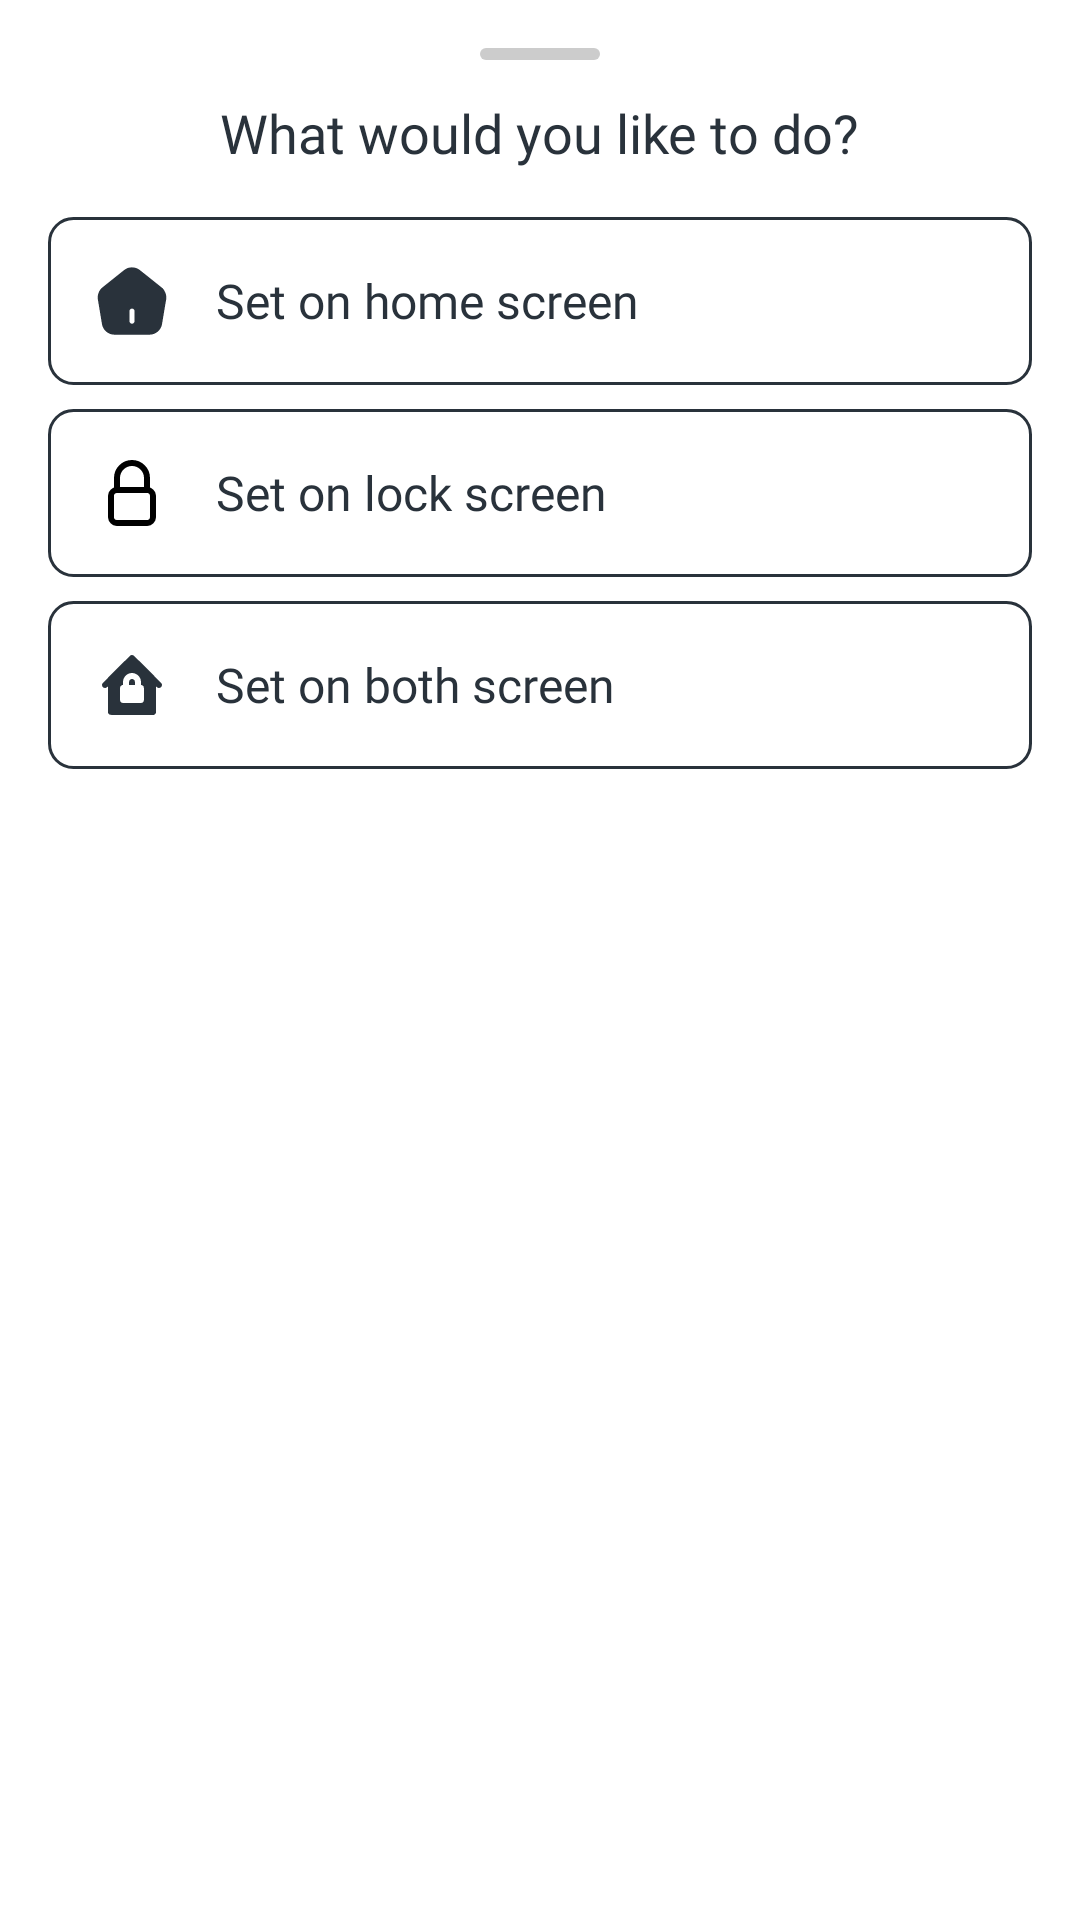

Icon click points for this 1080 x 1920 phone screenshot, format [x,y]:
Both Screens Icon: [132,685]
